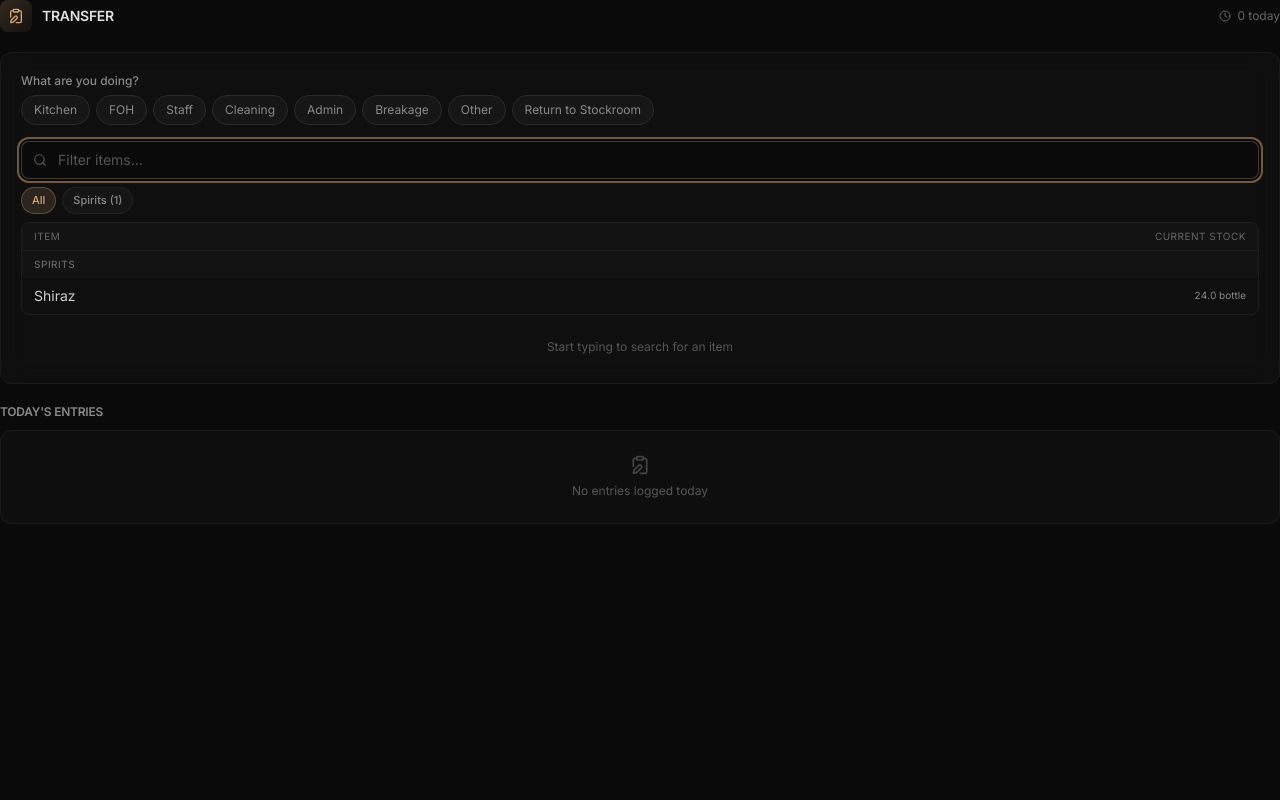
ConsumptionLogger — move-not-usage guardrail › 'Go back' dismisses without writing anything
This screenshot has width=1280, height=800.
Click the button "FOH". click: (122, 110)
box: [96, 95, 147, 125]
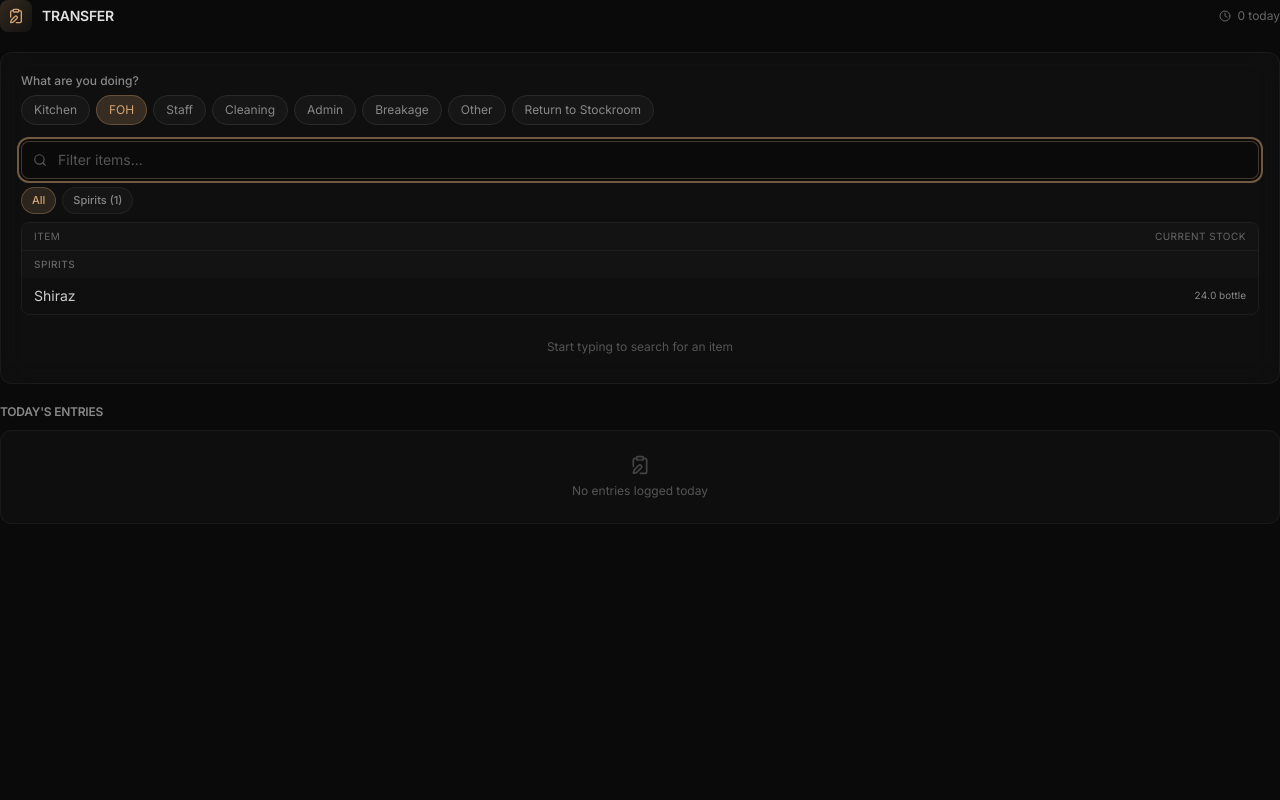
Type "Shiraz" into the field with placeholder "Filter items...". click: (640, 160)
box: [21, 141, 1259, 179]
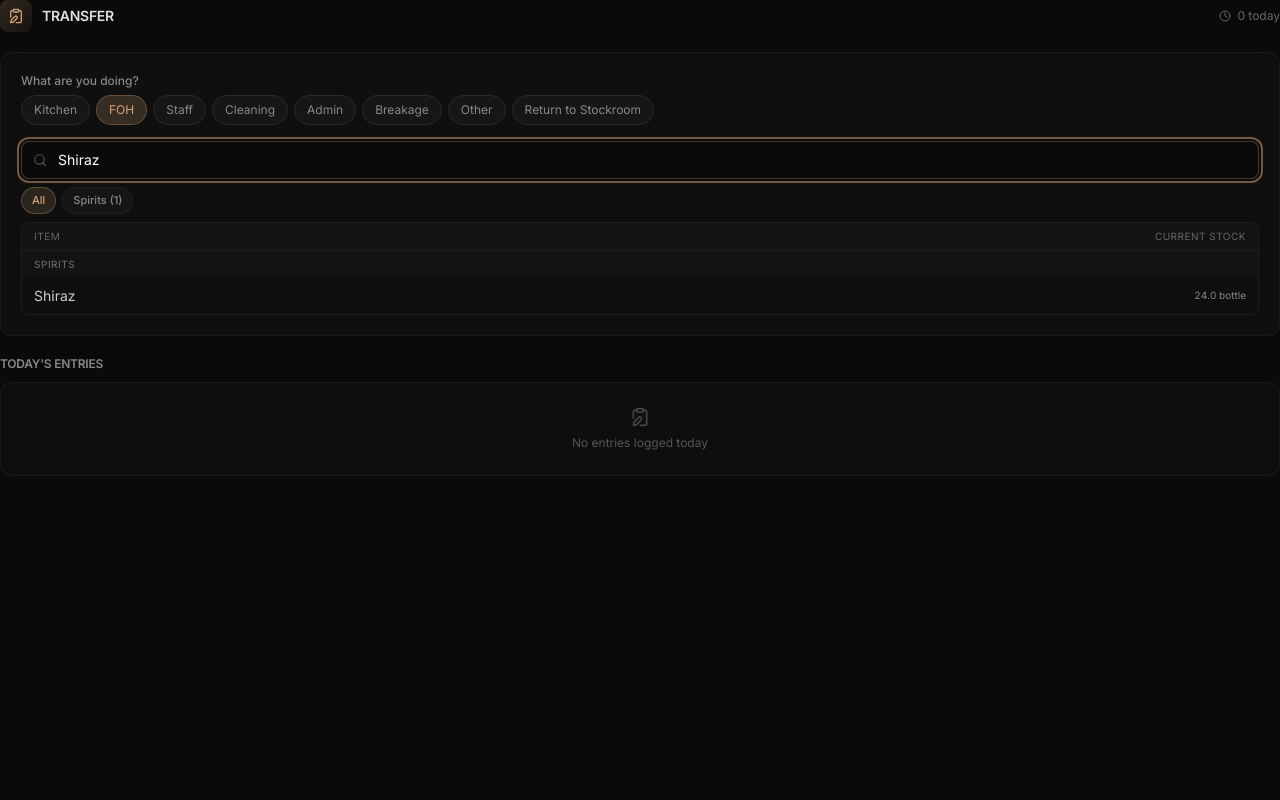
Click the button "Shiraz 24.0 bottle". click: (55, 295)
box: [22, 278, 1258, 314]
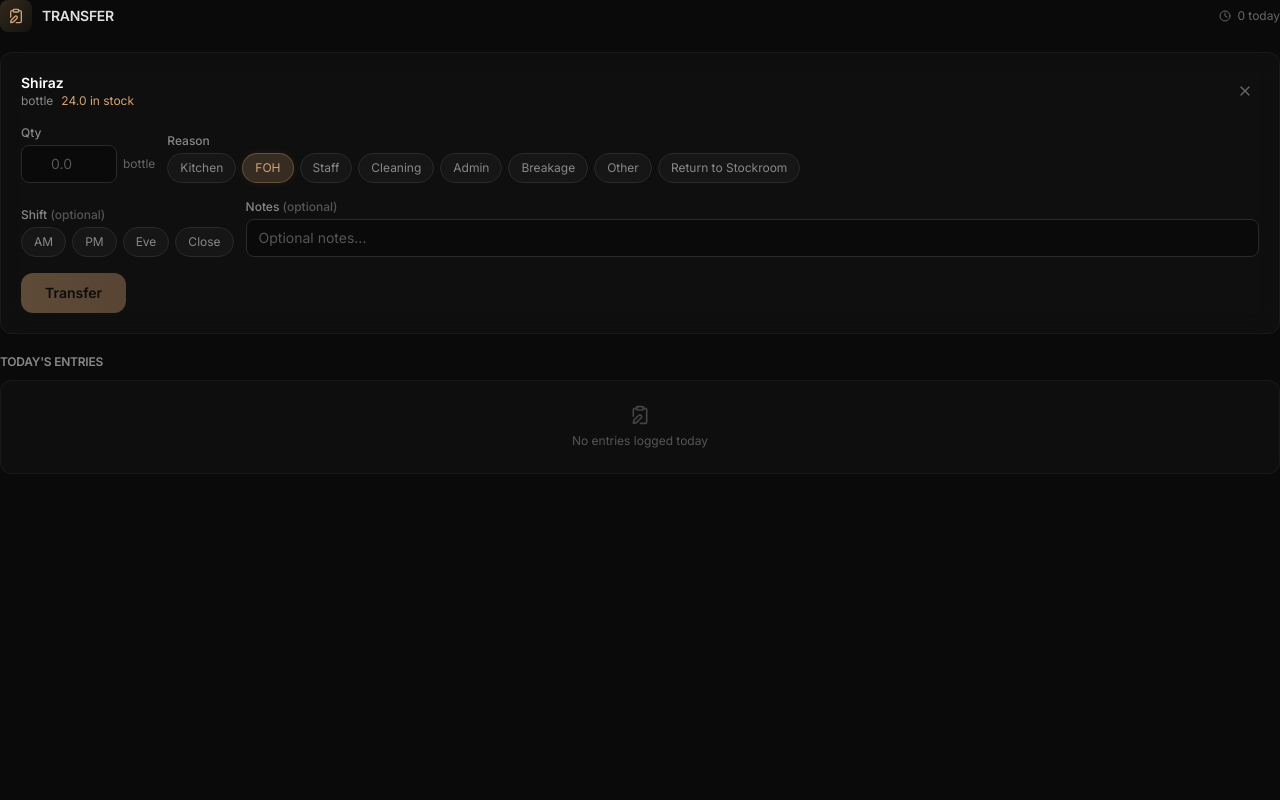
Type "4" into the number field with placeholder "0.0". click: (69, 164)
box: [21, 145, 117, 183]
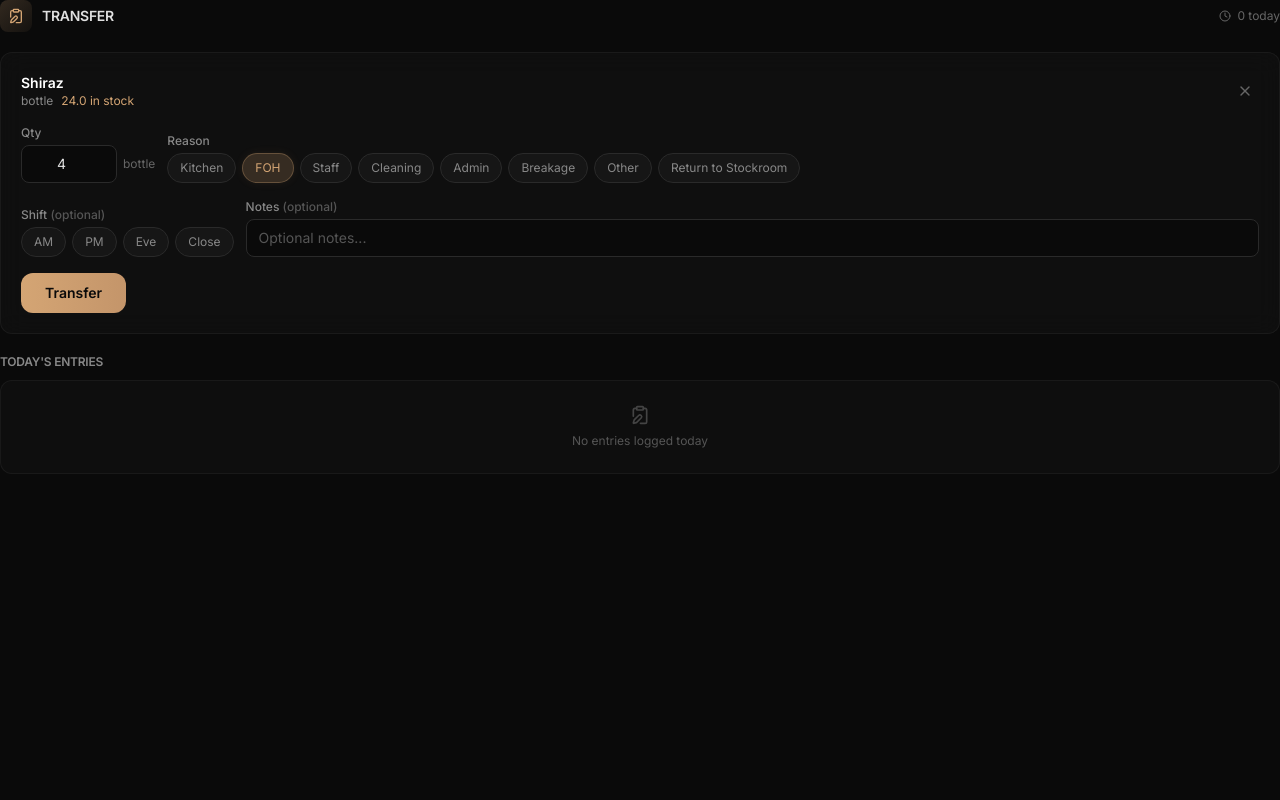
Click the button "Transfer". click: (74, 293)
box: [21, 273, 126, 313]
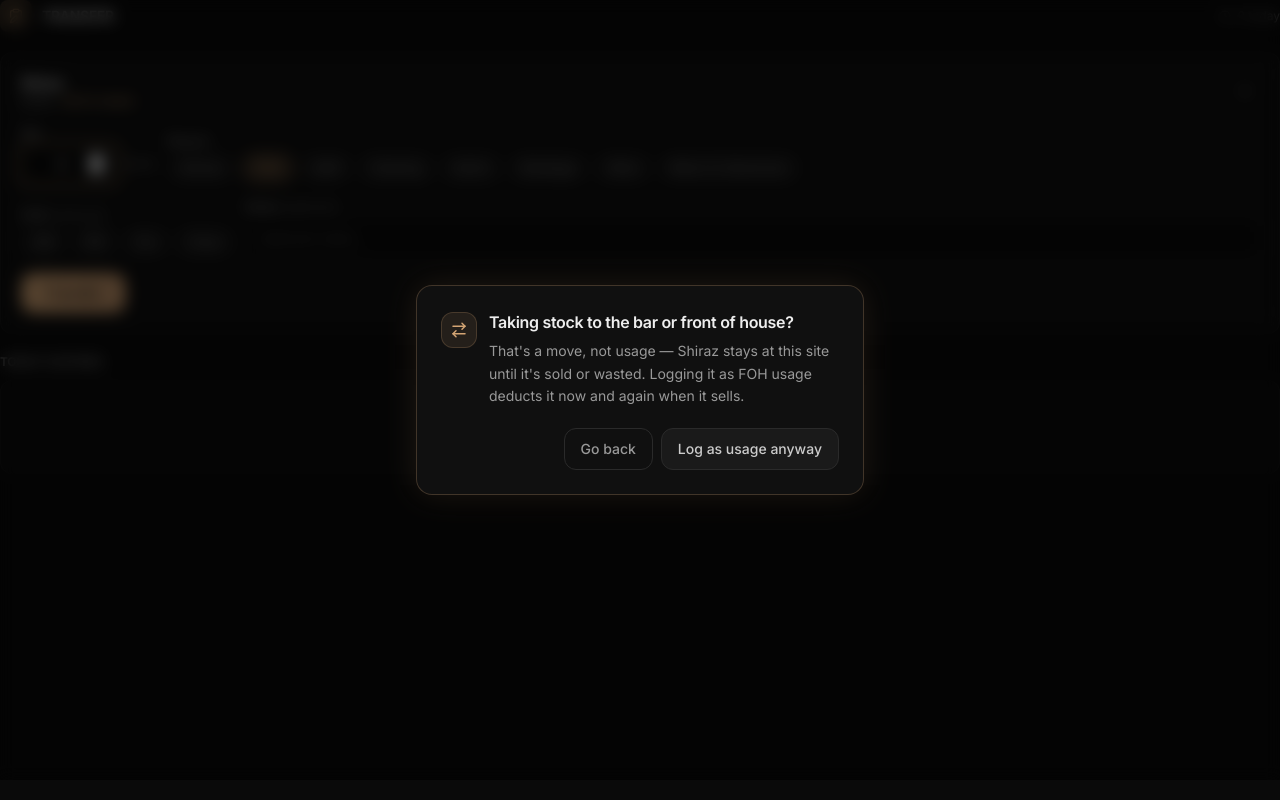
Now the dialog is shown
Click the button "Go back". click: (608, 449)
box: [564, 428, 653, 470]
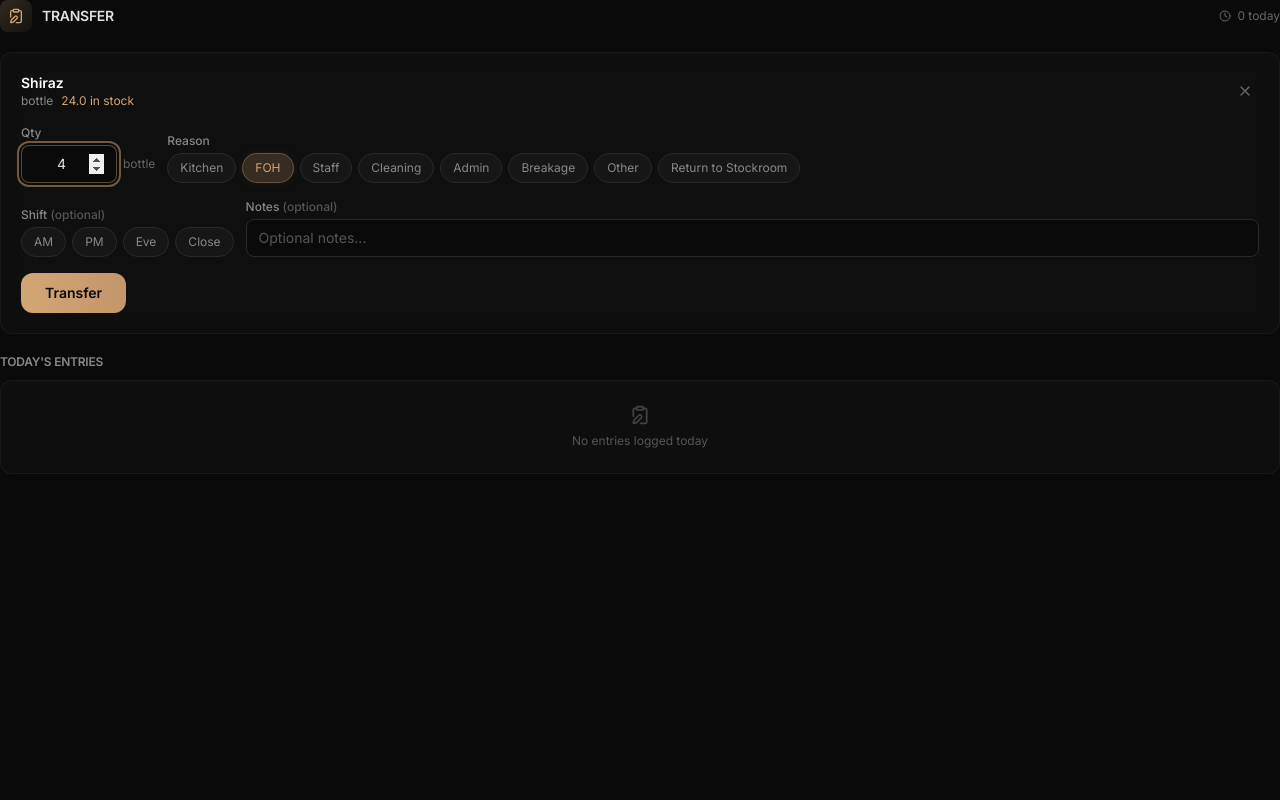
Now the dialog is gone
